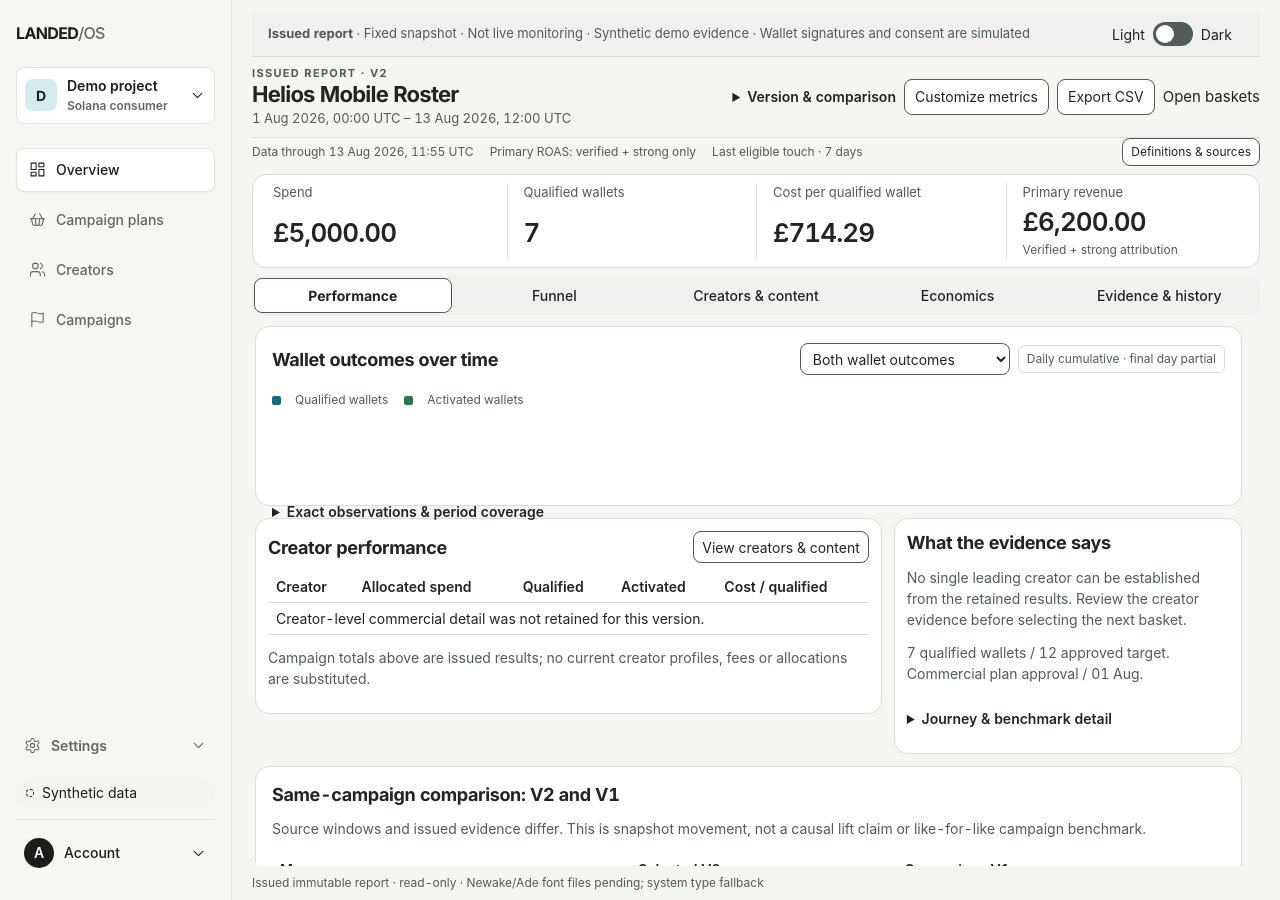
Test: Clarity analysis ribbon › keeps real issued reports read-only and never substitutes a planning preview
This screenshot has width=1280, height=900.
Click the tab "Creators & content" at (756, 296), box 657,278 -> 855,313
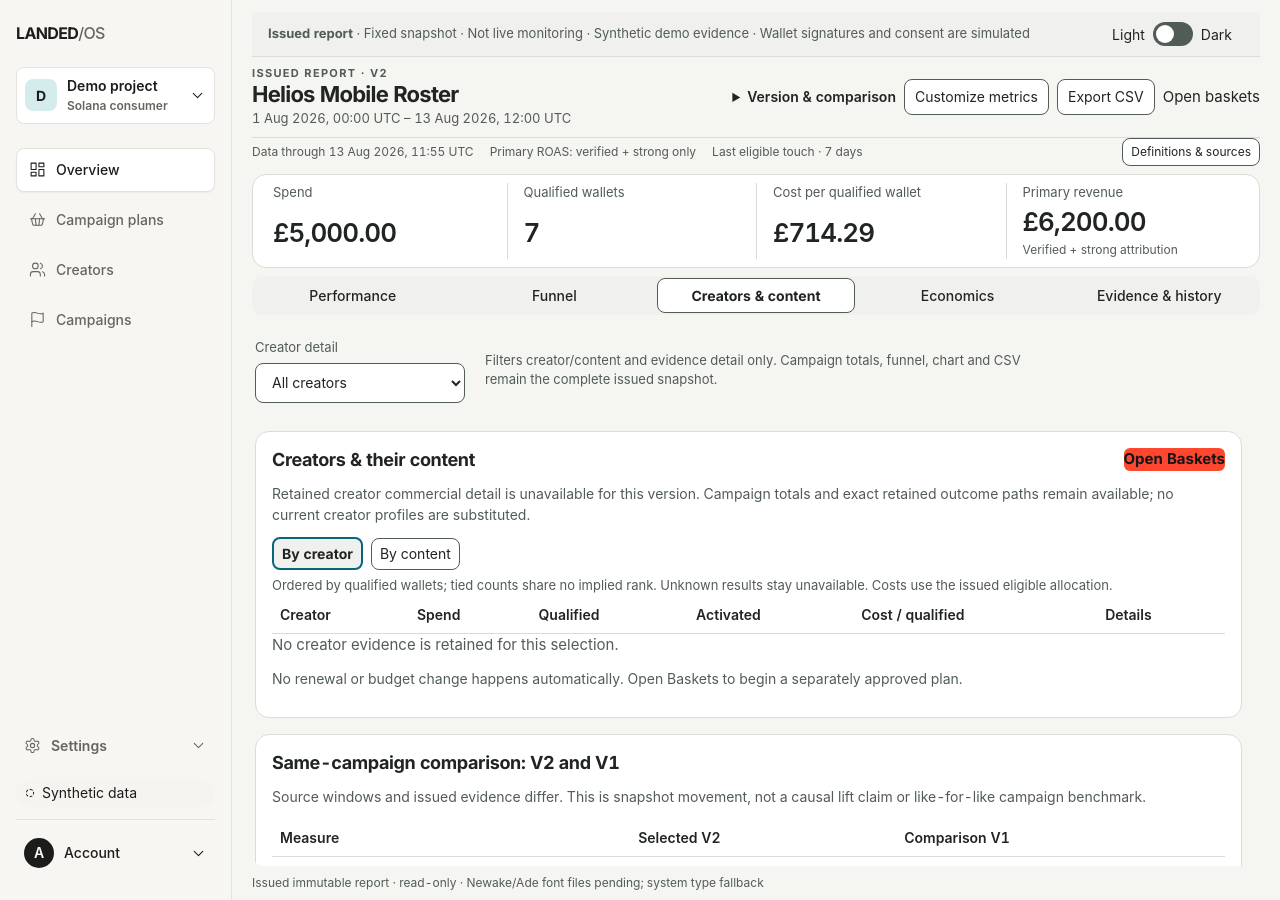
Expected: the text "Wallet signatures and consent are simulated" is shown, 583,25 -> 1030,41
Result: the text "Retained creator commercial detail is unavailable" is shown at 272,485 -> 1174,523
